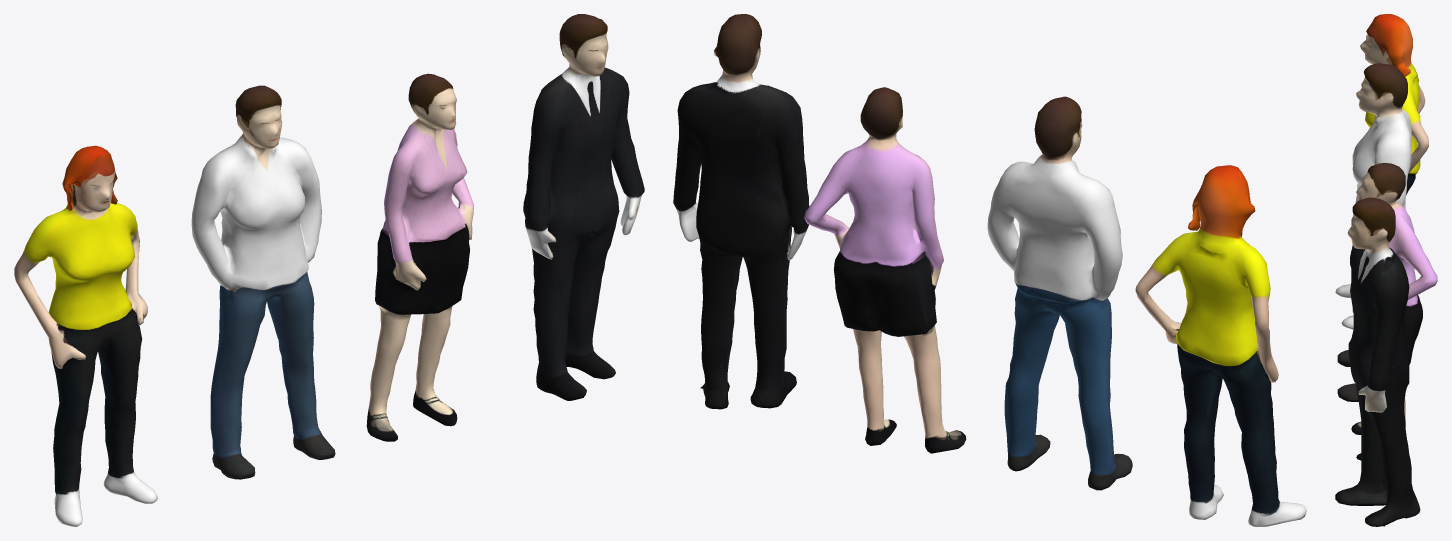
Rendered from Profes.glb.
The picture shows the model from 3 angles, left to right: view 1: azimuth 30°, elevation 25°; view 2: azimuth 150°, elevation 25°; view 3: azimuth 270°, elevation 25°; orthographic projection. The views are drawn at different scales.
Parts seen in each view (by area): view 1: Mesh_0.001; view 2: Mesh_0.001; view 3: Mesh_0.001.
Part boxes in pixels (left/top/right/bottom): Mesh_0.001: left=14, top=14, right=644, bottom=526; Mesh_0.001: left=673, top=14, right=1306, bottom=526; Mesh_0.001: left=1335, top=14, right=1437, bottom=526.
Size of the model in its own units: 2.9 by 1.7 by 0.4951.
1 material, 1 textured.
